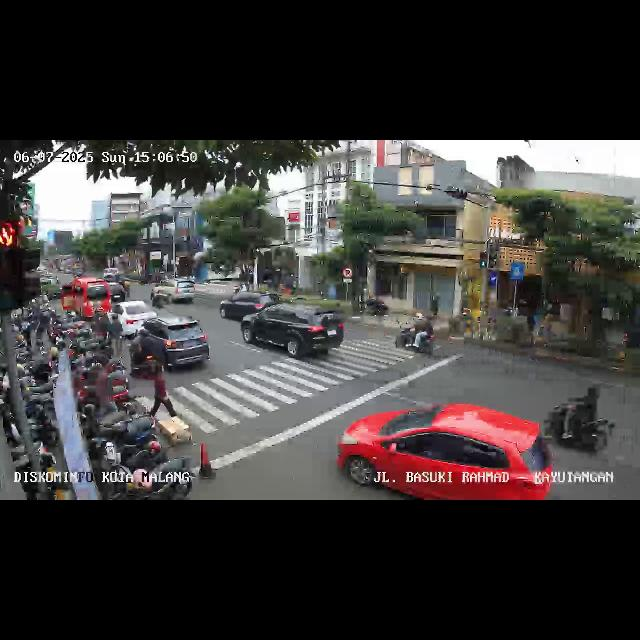car: (338, 402, 552, 500), (242, 302, 346, 360), (134, 316, 212, 374), (60, 276, 112, 320), (102, 300, 160, 338), (220, 292, 280, 322), (151, 278, 197, 306), (105, 282, 127, 302)
motorcycle: (540, 384, 618, 458), (396, 312, 436, 360), (127, 328, 155, 380), (150, 289, 164, 309)
person: (150, 364, 178, 421)
